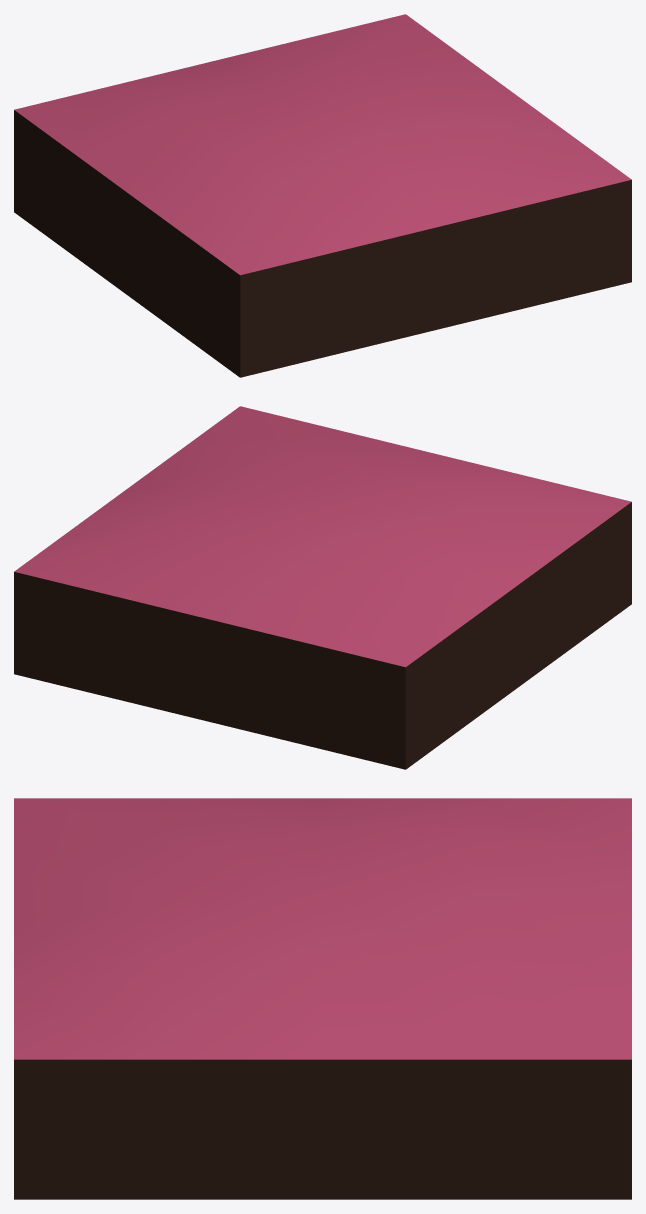
Rendered from uniformedTile-31_col.fbx.
3 views of the same model, one above another, from view 1: azimuth 30°, elevation 25°; view 2: azimuth 150°, elevation 25°; view 3: azimuth 270°, elevation 25° (orthographic). The views are drawn at different scales.
Parts seen in each view (by area): view 1: uniformedTile-31.col; view 2: uniformedTile-31.col; view 3: uniformedTile-31.col.
Part boxes in pixels (x1,y1,x2,y2): uniformedTile-31.col: (14, 14, 631, 377); uniformedTile-31.col: (14, 406, 631, 769); uniformedTile-31.col: (14, 798, 631, 1199).
Size of the model in its own units: 2 by 0.6163 by 2.
1 material, 1 textured.
